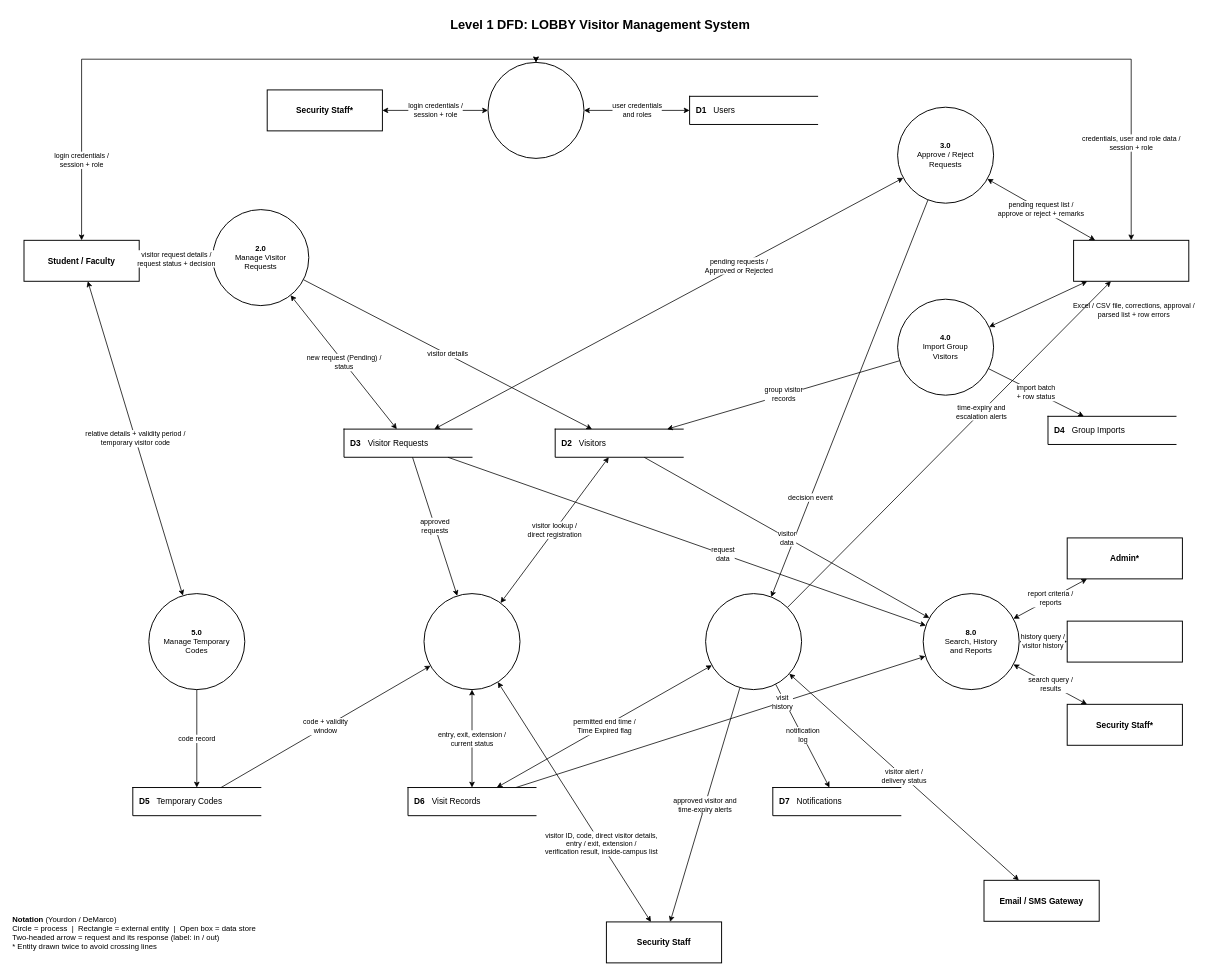
Image size: 1206x979. Some labels were removed from this diagram. The shapes that lost their labels are listed below. From the top down, each one's centre as x and y in pixels, then its label:
the point at 535,110: 1.0 Authenticate User
the point at 1131,260: Admin
the point at 471,641: 6.0 Control Gate Entry and Exit
the point at 753,641: 7.0 Monitor Visit Time and Notify
the point at 1124,641: Student / Faculty*
